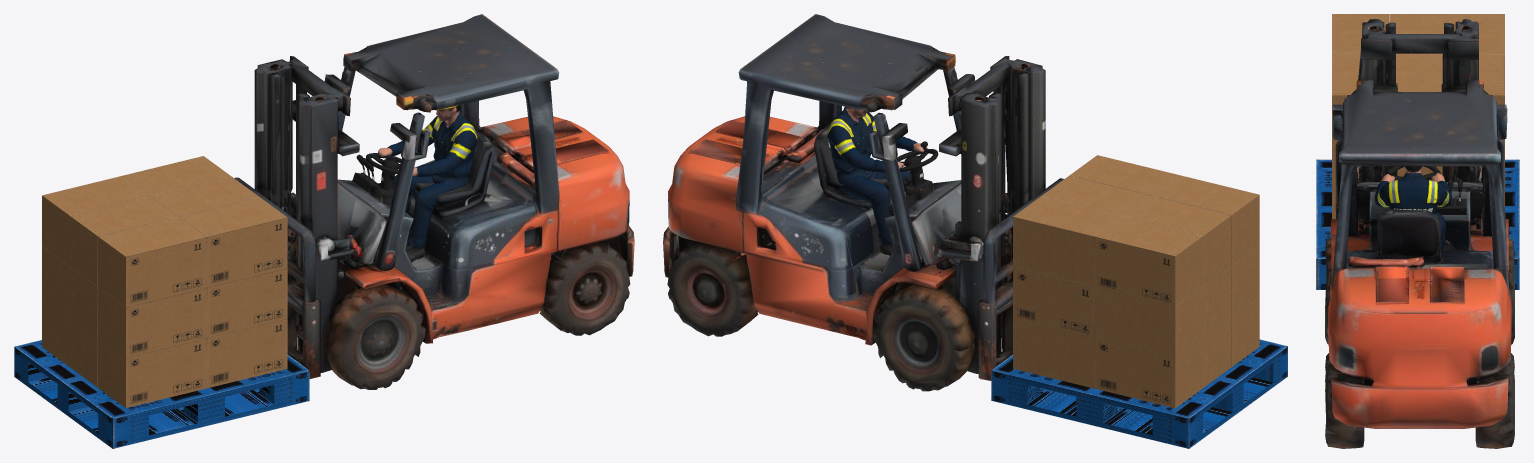
The model's file is ForkliftWithPalletWithCardboards_optimized.glb.
The picture shows the model from 3 angles, left to right: view 1: azimuth 30°, elevation 25°; view 2: azimuth 150°, elevation 25°; view 3: azimuth 270°, elevation 25°; orthographic projection. The views are drawn at different scales.
Visible parts, largest first — view 1: ForkliftBody, Pallet, CardboardBox.012, CardboardBox.017, CardboardBox.011, CardboardBox, OperatorInsideForklift, CardboardBox.006, CardboardBox.005, CardboardBox.013, CardboardBox.014, CardboardBox.016 (+6 smaller); view 2: ForkliftBody, Pallet, CardboardBox.014, CardboardBox.015, CardboardBox.009, CardboardBox.002, OperatorInsideForklift, CardboardBox.008, CardboardBox.003, CardboardBox.012, CardboardBox.013, CardboardBox.017 (+6 smaller); view 3: ForkliftBody, Pallet, OperatorInsideForklift, CardboardBox.016, CardboardBox.012, CardboardBox.014, CardboardBox.017, CardboardBox.013, CardboardBox.015, ControllerOFForklift, SteeringWheelofForklift, CardboardBox.006.
Part boxes in pixels (x1,y1,x2,y2): ForkliftBody: (234, 14, 634, 389); Pallet: (14, 340, 309, 448); CardboardBox.012: (98, 216, 206, 307); CardboardBox.017: (179, 197, 287, 287); CardboardBox.011: (98, 287, 206, 357); CardboardBox: (98, 337, 206, 407); OperatorInsideForklift: (378, 105, 477, 262); CardboardBox.006: (206, 268, 287, 337); CardboardBox.005: (206, 318, 287, 388); CardboardBox.013: (69, 196, 177, 286); CardboardBox.014: (42, 175, 150, 266); CardboardBox.016: (151, 176, 258, 216); ForkliftBody: (663, 14, 1063, 391); Pallet: (991, 339, 1287, 448); CardboardBox.014: (1094, 216, 1203, 307); CardboardBox.015: (1013, 196, 1121, 287); CardboardBox.009: (1094, 287, 1203, 357); CardboardBox.002: (1094, 337, 1203, 408); OperatorInsideForklift: (827, 106, 927, 255); CardboardBox.008: (1013, 267, 1094, 337); CardboardBox.003: (1013, 318, 1094, 388); CardboardBox.012: (1151, 175, 1259, 265); CardboardBox.013: (1122, 195, 1231, 285); CardboardBox.017: (1069, 155, 1177, 195); ForkliftBody: (1325, 19, 1514, 448); Pallet: (1316, 159, 1519, 289); OperatorInsideForklift: (1374, 166, 1451, 249); CardboardBox.016: (1396, 54, 1442, 91); CardboardBox.012: (1332, 14, 1389, 54); CardboardBox.014: (1447, 14, 1504, 54); CardboardBox.017: (1332, 54, 1360, 147); CardboardBox.013: (1390, 14, 1447, 54); CardboardBox.015: (1479, 54, 1504, 147); ControllerOFForklift: (1435, 179, 1466, 214); SteeringWheelofForklift: (1386, 166, 1440, 180); CardboardBox.006: (1332, 147, 1358, 199).
Size of the model in its own units: 2.39 by 1.2 by 0.75.
5 materials, 5 textured.
